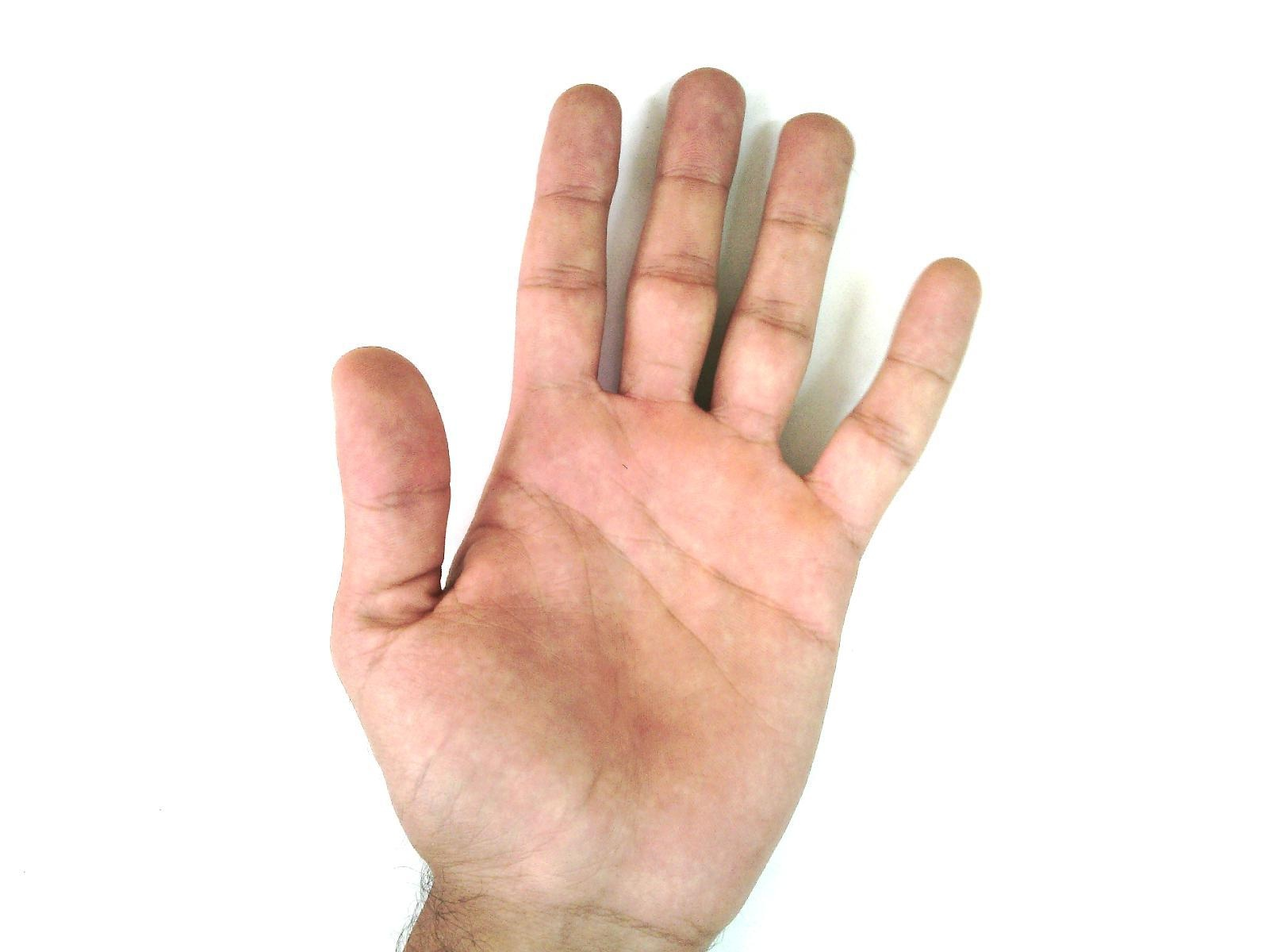open_palm: (325, 67, 984, 947)
